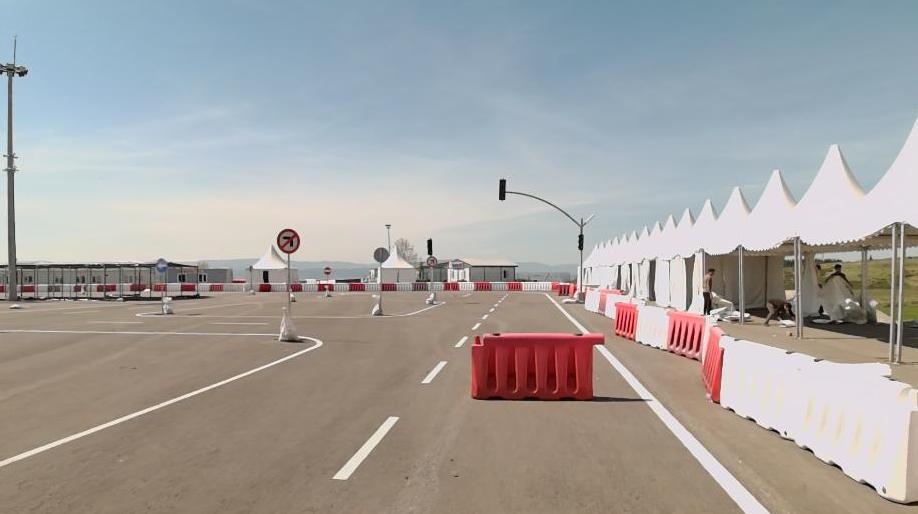sola_donulmez: (272, 228, 302, 258)
